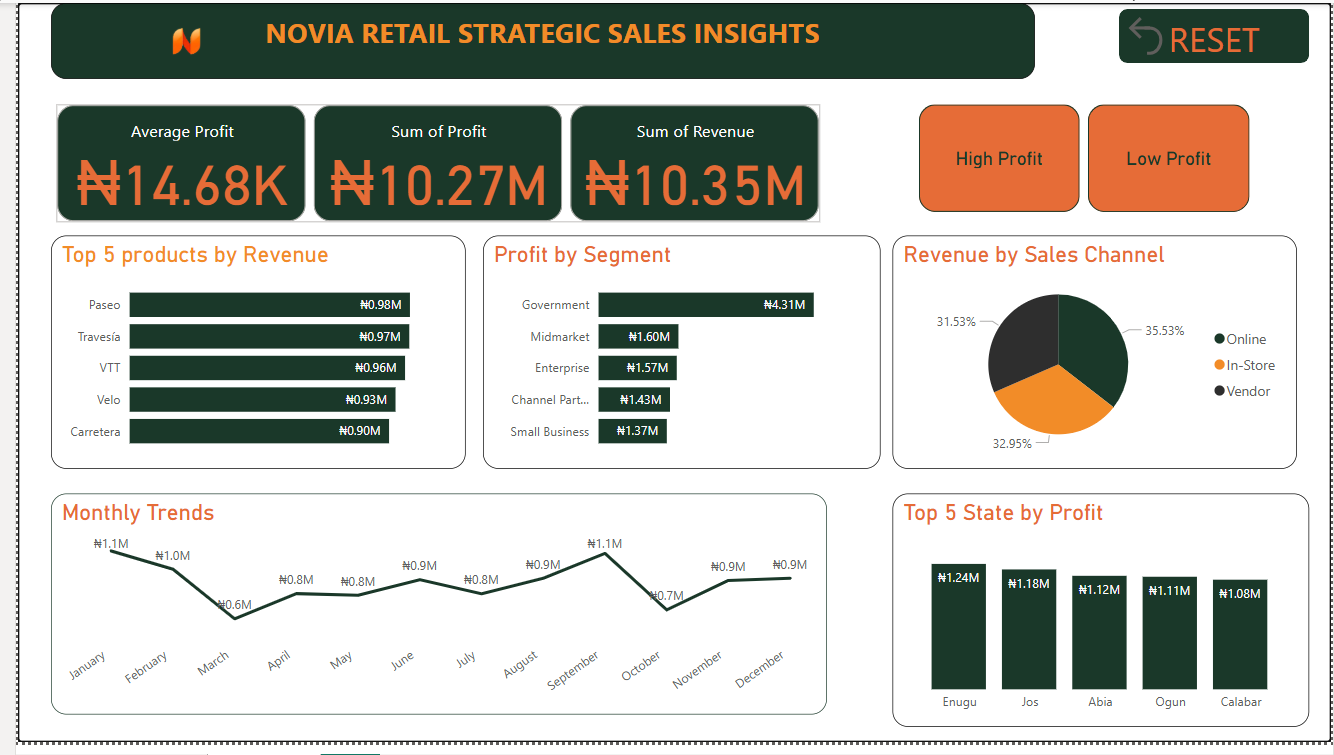

Layout of this report page (visuals, bound fields, positions):
{"tool":"powerbi","page":{"name":"Page 1","canvas":[1280,720],"ordinal":0},"visuals":[{"type":"cardVisual","fields":{"Data":["FinancialData.Average Profit","Sum(FinancialData.Profit)","Sum(FinancialData.Revenue)"]},"box":[31.8,93.9,755.6,125.7],"z":0},{"type":"barChart","title":"Top 5 products by Revenue","fields":{"Y":["Sum(FinancialData.Revenue)"],"Category":["Product1. Product "]},"box":[31.8,227.1,404.3,227.1],"z":1000},{"type":"barChart","title":"Profit by Segment","fields":{"Category":["Segement.Segment"],"Y":["Sum(FinancialData.Profit)"]},"box":[452.7,227.1,387.6,227.1],"z":2000},{"type":"pieChart","title":" Revenue by Sales Channel","fields":{"Category":["SalesChannel.Sales Channel"],"Y":["Sum(FinancialData.Revenue)"]},"box":[852.5,227.1,393.7,227.1],"z":3000},{"type":"textbox","box":[31.6,0,958.4,74.2],"z":4000},{"type":"actionButton","box":[1073.4,5.7,185.2,52.9],"z":5000},{"type":"columnChart","title":"Top 5 State by Profit","fields":{"Category":["Location.State"],"Y":["Sum(FinancialData.Profit)"]},"box":[852.5,478.5,405.8,227.1],"z":6000},{"type":"lineChart","title":"Monthly Trends","fields":{"Category":["Date.Month"],"Y":["Sum(FinancialData.Revenue)"]},"box":[32.1,478.1,755.9,215.4],"z":7000},{"type":"advancedSlicerVisual","fields":{"Values":["FinancialData.Profit Categories"]},"box":[872.2,93.9,333.1,115.1],"z":8000},{"type":"image","box":[116.9,0,95,74.5],"z":9000}]}

Visuals, with their boxes in screenshot pixels (x1, y1, x2, y2), scaled from the page's 1280x720 canvas onto the 1334x755 screenshot:
cardVisual - FinancialData.Average Profit x Sum(FinancialData.Profit): Rect(33, 98, 821, 230)
"Top 5 products by Revenue" barChart: Rect(33, 238, 454, 476)
"Profit by Segment" barChart: Rect(472, 238, 876, 476)
" Revenue by Sales Channel" pieChart: Rect(888, 238, 1299, 476)
textbox: Rect(33, 0, 1032, 78)
actionButton: Rect(1119, 6, 1312, 61)
"Top 5 State by Profit" columnChart: Rect(888, 502, 1311, 740)
"Monthly Trends" lineChart: Rect(33, 501, 821, 727)
advancedSlicerVisual - FinancialData.Profit Categories: Rect(909, 98, 1256, 219)
image: Rect(122, 0, 221, 78)
